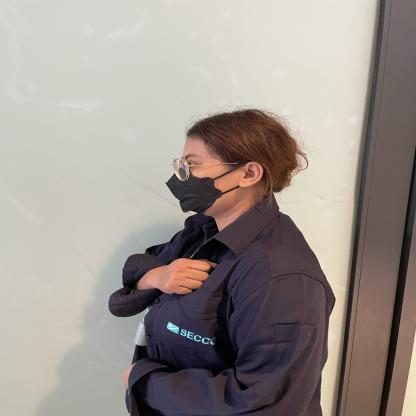Sadness: (123, 239, 231, 318)
